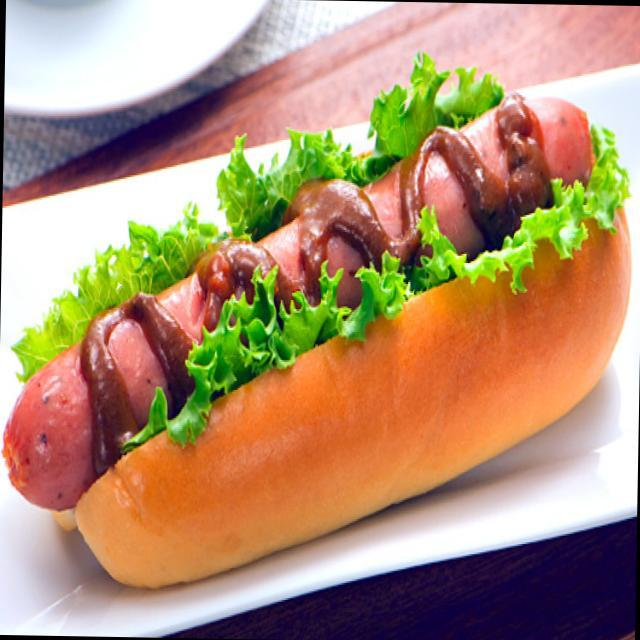Hot Dog: (16, 81, 640, 572)
